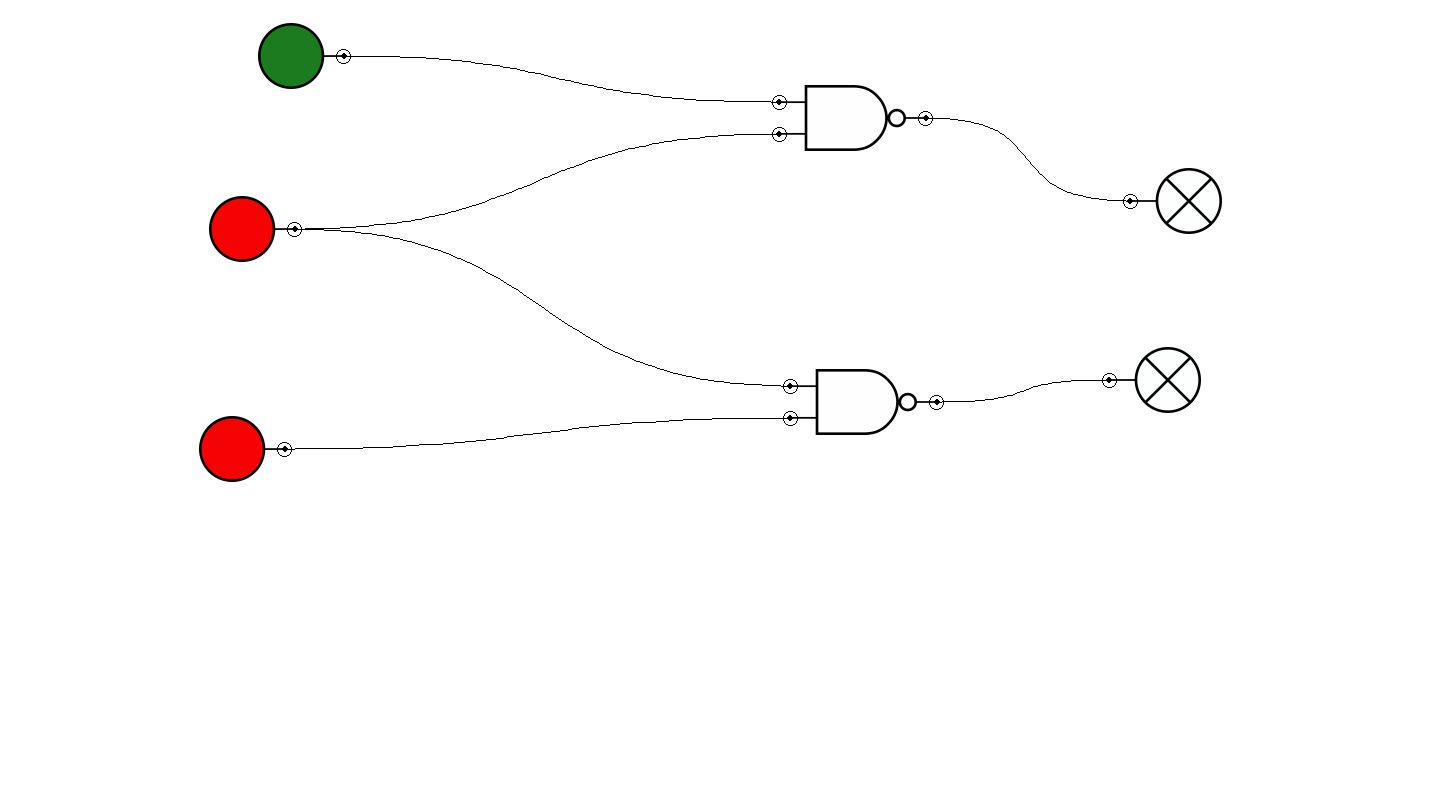bulb: (1123, 168, 1222, 234), (1102, 347, 1201, 413)
nand: (783, 369, 944, 435), (772, 85, 933, 151)
switch_False: (199, 416, 292, 482), (209, 196, 302, 262)
switch_True: (258, 23, 351, 89)
